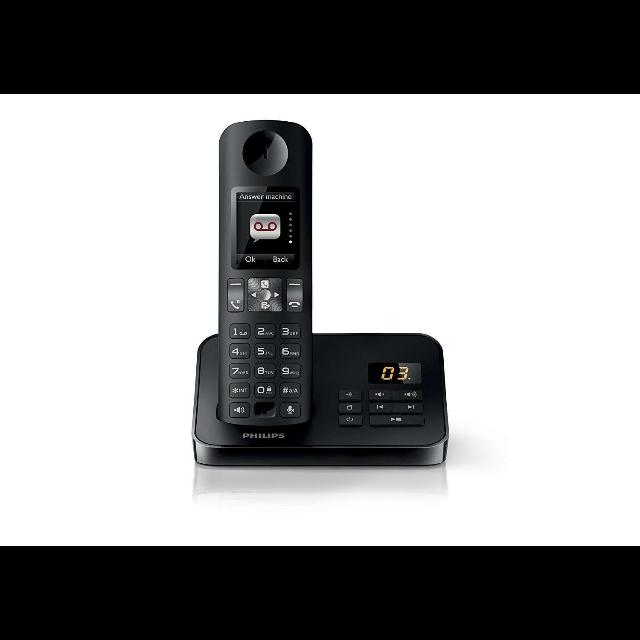Telephone-Set: (169, 105, 463, 468)
